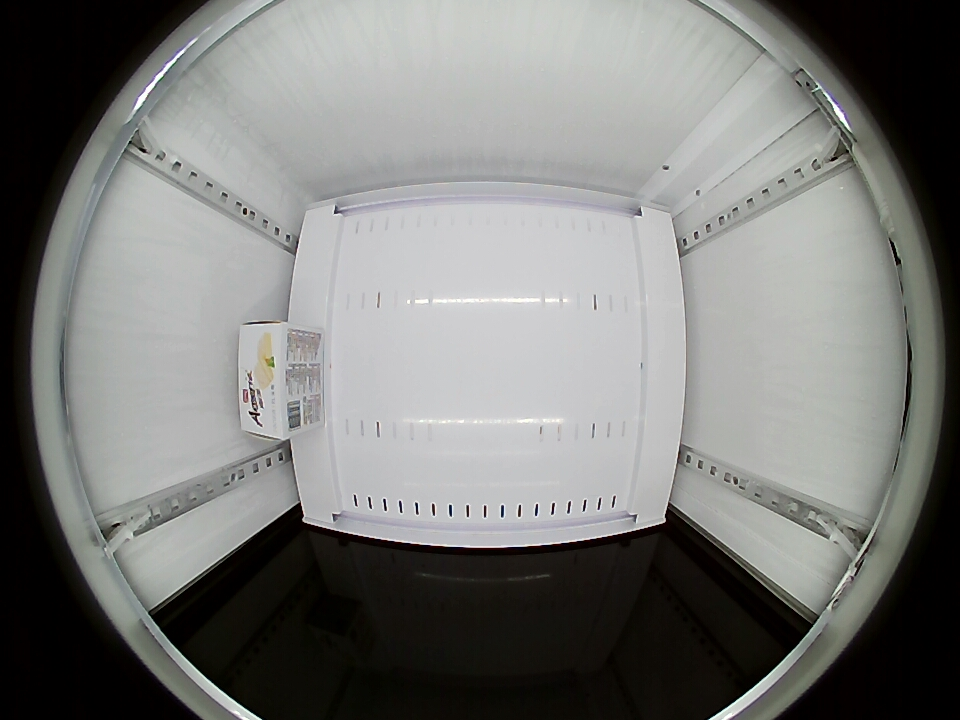meiniye: (238, 322, 309, 441)
